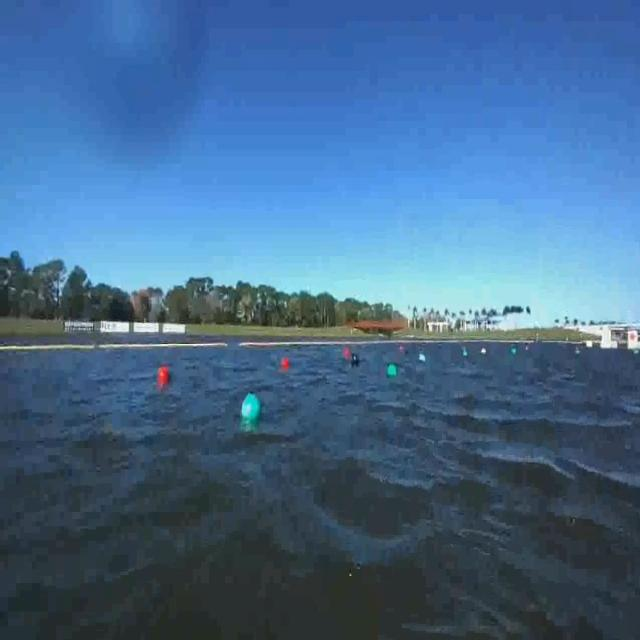black-buoy: (352, 354, 360, 367)
green-buoy: (240, 396, 260, 426), (385, 362, 395, 376)
red-buoy: (282, 358, 290, 370)
red-column-buoy: (157, 364, 169, 388), (344, 346, 352, 360)
